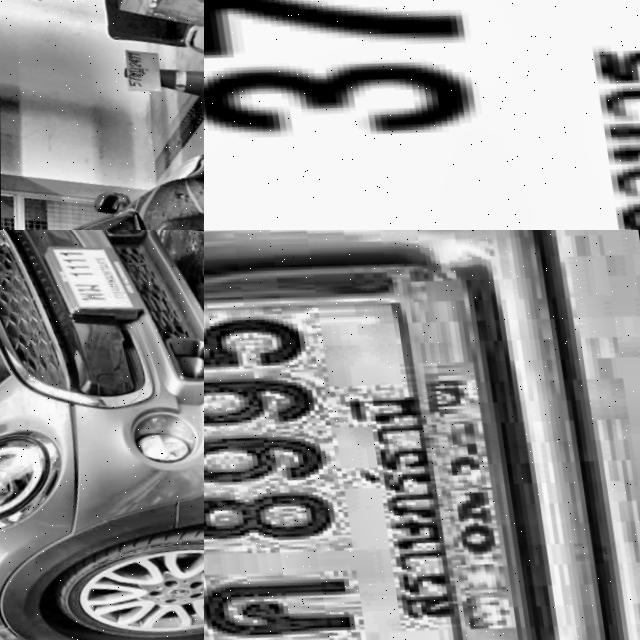license-plate: (204, 230, 537, 640), (204, 0, 640, 230), (37, 230, 154, 327)
